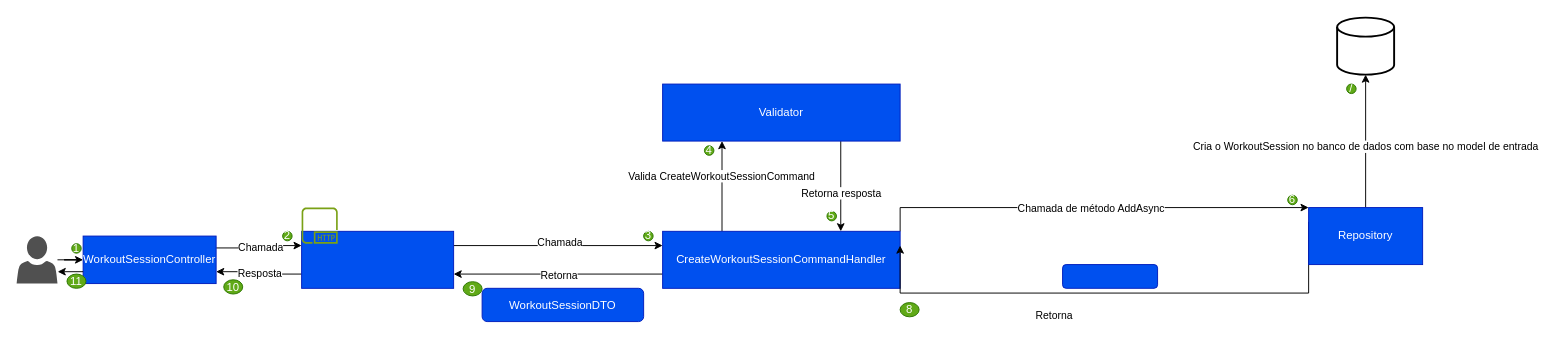
Some shapes in this 1554 by 338 pixel diagram are drawn without their labels. Each missing label, with the centre of its shape:
"CreateWorkoutSession" belongs at (377,259).
"Entidade WorkoutSession" belongs at (1110,276).
"POST" belongs at (319,225).
"SQL" belongs at (1365,45).
"User" belongs at (36,259).
